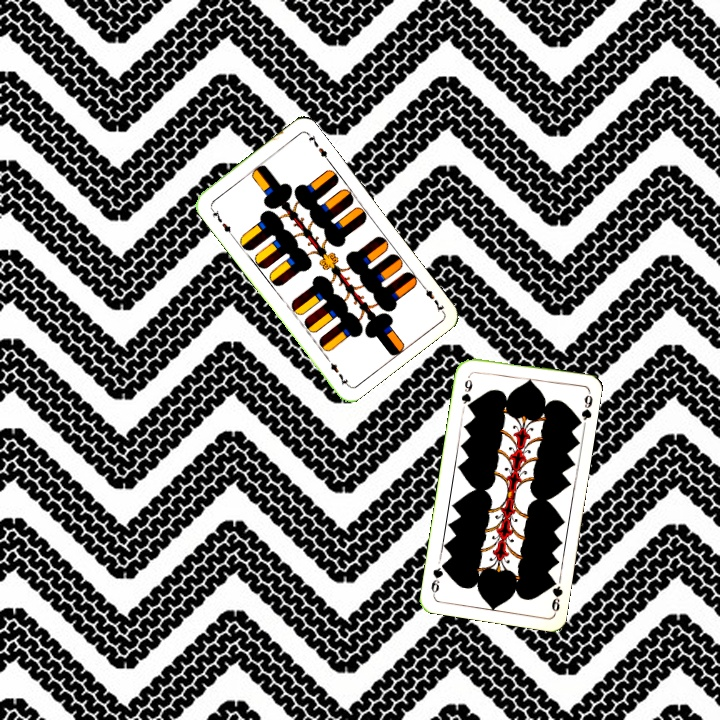E7: (417, 279, 447, 314), (206, 203, 235, 238)
G9: (547, 574, 565, 616), (457, 371, 475, 412)
